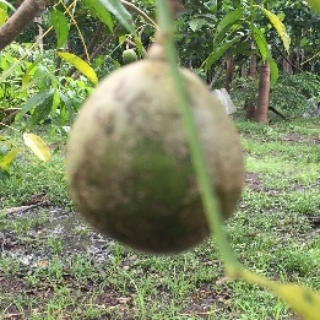coc: (65, 59, 246, 255)
